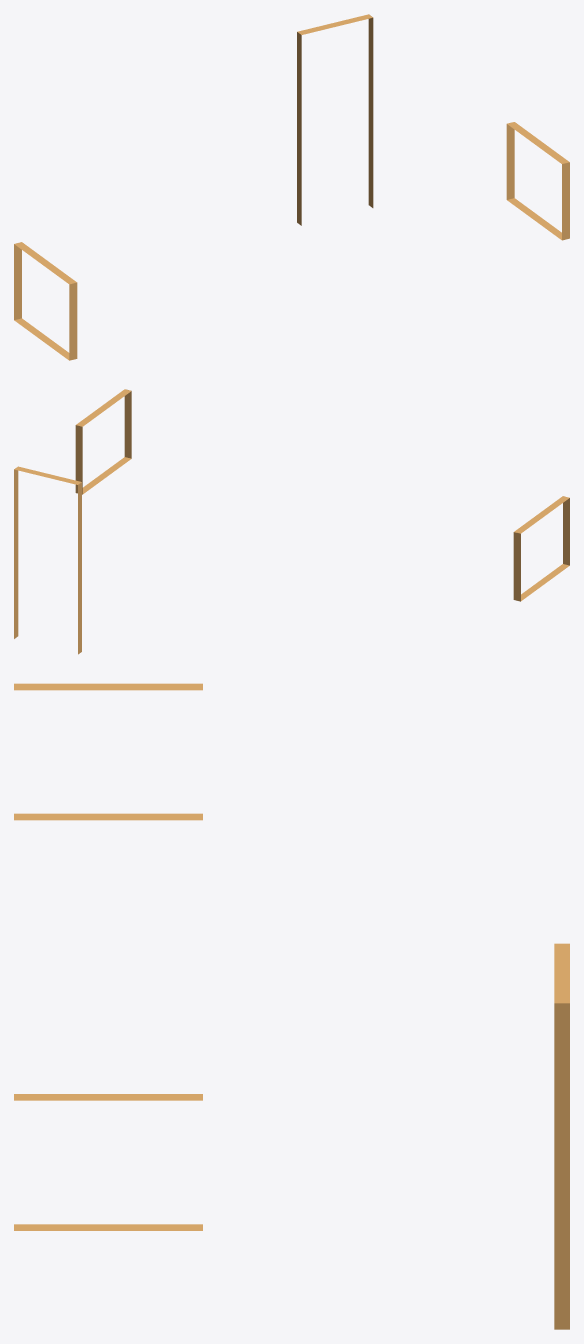
Rendered from stage-7.glb.
The picture shows the model from 3 angles, top to bottom: view 1: azimuth 30°, elevation 25°; view 2: azimuth 150°, elevation 25°; view 3: azimuth 270°, elevation 25°; orthographic projection. The views are drawn at different scales.
Parts seen in each view (by area): view 1: Geom3D; view 2: Geom3D; view 3: Geom3D.
Boxes of the visible parts, x1=… form: Geom3D: x1=14, y1=14, x2=569, y2=360; Geom3D: x1=14, y1=389, x2=569, y2=654; Geom3D: x1=14, y1=683, x2=569, y2=1329.
Size of the model in its own units: 6.27 by 2.29 by 3.53.
